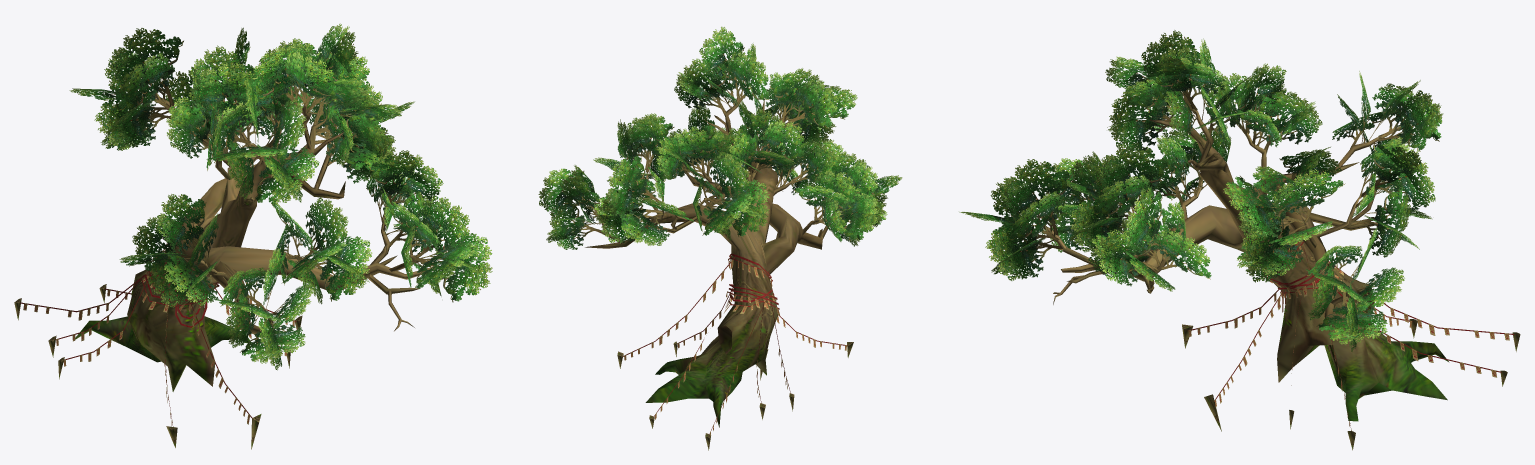
The model's file is ju_shu_001.FBX.
The picture shows the model from 3 angles, left to right: view 1: azimuth 30°, elevation 25°; view 2: azimuth 150°, elevation 25°; view 3: azimuth 270°, elevation 25°; orthographic projection. The views are drawn at different scales.
Visible parts, largest first — view 1: ju_shu_001; view 2: ju_shu_001; view 3: ju_shu_001.
Boxes of the visible parts, x1,y1,x2,y2 form: ju_shu_001: (14, 23, 492, 449); ju_shu_001: (538, 26, 902, 450); ju_shu_001: (959, 30, 1520, 450).
Size of the model in its own units: 1519 by 1632 by 2001.
2 materials, 2 textured.
